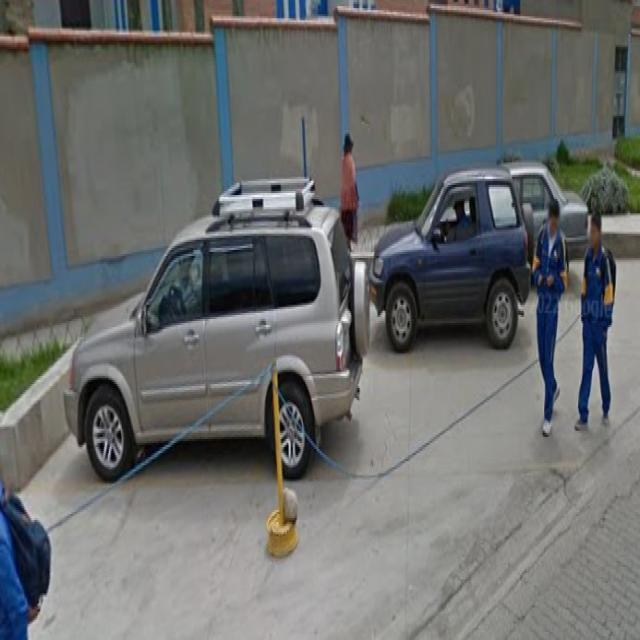cars: (68, 165, 370, 456), (378, 153, 532, 364)
